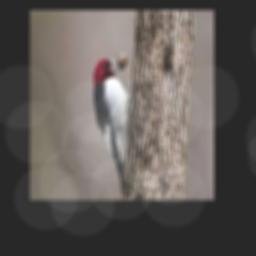Woodpecker: (93, 52, 130, 197)
